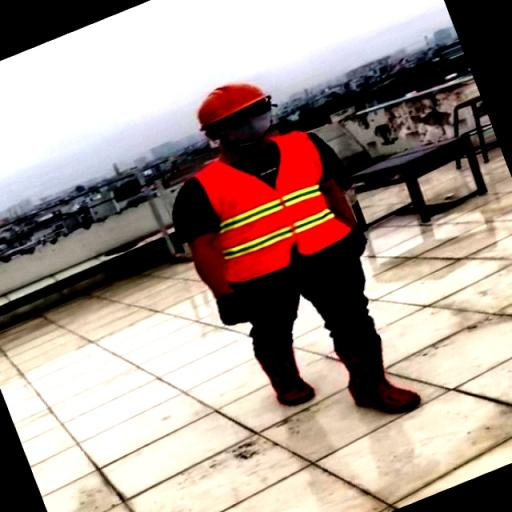Person: (138, 46, 476, 452)
boots: (343, 339, 429, 421), (255, 337, 324, 409)
helmet: (184, 78, 278, 126)
vest: (192, 132, 356, 286)
